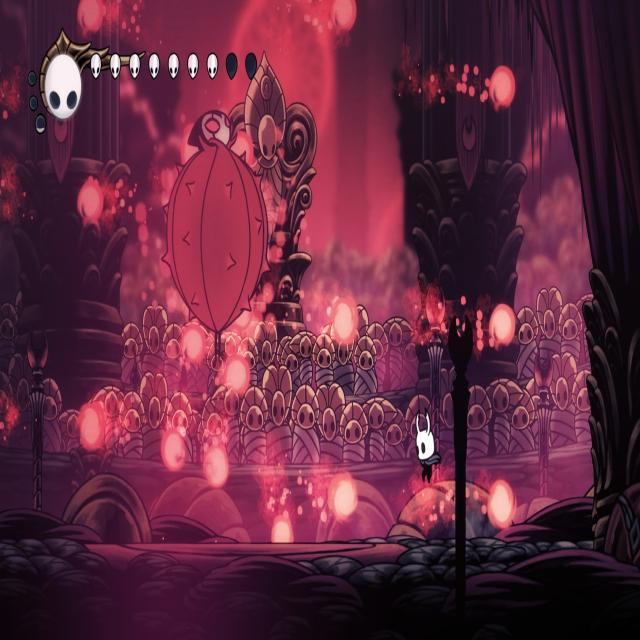Player: (411, 405, 443, 490)
Pufferfish: (158, 108, 274, 366)
Tiny Fireballs: (79, 401, 107, 451), (486, 480, 514, 530), (488, 66, 516, 112), (333, 298, 358, 348), (79, 178, 105, 226), (330, 474, 357, 520), (204, 445, 230, 487), (161, 430, 186, 473), (489, 304, 514, 346), (226, 356, 251, 396), (182, 324, 205, 366), (78, 0, 104, 33), (332, 0, 358, 33), (272, 516, 294, 544)
